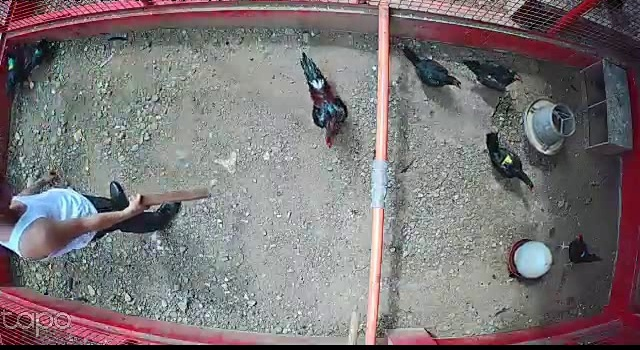Chicken: (483, 128, 534, 191), (399, 41, 462, 91), (458, 56, 530, 98), (555, 229, 611, 270)
Drinker: (507, 236, 553, 282)
Feeder: (520, 95, 578, 156)
Rooster: (294, 50, 352, 150)
Saddle_Color_Yellow: (502, 153, 513, 166)
